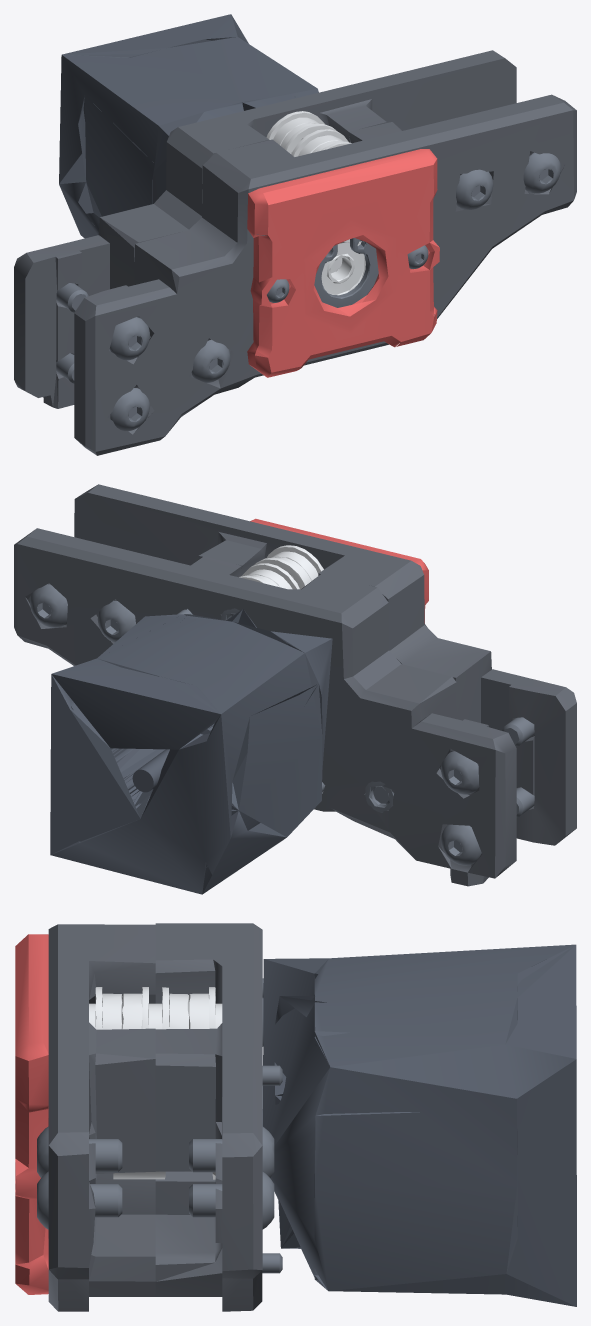
3 renders of one model, top to bottom at view 1: azimuth 30°, elevation 25°; view 2: azimuth 150°, elevation 25°; view 3: azimuth 270°, elevation 25°, orthographic. The views are drawn at different scales.
Visible parts, largest first — view 1: b_stepper_upper__1_, b_stepper_lower, [a]_cover_bearing_x2, nema17_motor_17hs19-2004s__1, circlip_x2, f695_zz__1___1_, m5x10_bhcs__1__9, m5x10_bhcs__1_, m5x10_bhcs__1__5, m5x30_bhcs__1__12, m5x10_bhcs__1__8, f695_zz__1__38 (+3 smaller); view 2: nema17_motor_17hs19-2004s__1, b_stepper_lower, b_stepper_upper__1_, m5x10_bhcs__1__10, m5x10_bhcs__1__11, m5x10_bhcs__1__6, m5x10_bhcs__1__7, [a]_cover_bearing_x2, f695_zz__1__41, nema17_motor_17hs19-2004s__1_27, f695_zz__1__37, f695_zz__1__42 (+2 smaller); view 3: nema17_motor_17hs19-2004s__1, b_stepper_lower, b_stepper_upper__1_, [a]_cover_bearing_x2, m5x10_bhcs__1__6, m5x10_bhcs__1_, m5x10_bhcs__1__7, m5x10_bhcs__1__5, f695_zz__1__41, f695_zz__1__42, f695_zz__1__38, f695_zz__1__37.
Boxes of the visible parts, left/top/right/bottom form: b_stepper_upper__1_: left=74, top=94, right=576, bottom=455; b_stepper_lower: left=14, top=50, right=516, bottom=408; [a]_cover_bearing_x2: left=247, top=149, right=439, bottom=377; nema17_motor_17hs19-2004s__1: left=59, top=14, right=318, bottom=238; circlip_x2: left=314, top=238, right=378, bottom=307; f695_zz__1___1_: left=321, top=239, right=365, bottom=295; m5x10_bhcs__1__9: left=109, top=317, right=149, bottom=360; m5x10_bhcs__1_: left=523, top=152, right=560, bottom=193; m5x10_bhcs__1__5: left=456, top=169, right=493, bottom=209; m5x30_bhcs__1__12: left=191, top=339, right=230, bottom=382; m5x10_bhcs__1__8: left=110, top=388, right=149, bottom=431; f695_zz__1__38: left=266, top=111, right=324, bottom=145; nema17_motor_17hs19-2004s__1: left=50, top=609, right=332, bottom=894; b_stepper_lower: left=14, top=528, right=516, bottom=886; b_stepper_upper__1_: left=74, top=484, right=576, bottom=845; m5x10_bhcs__1__10: left=441, top=824, right=481, bottom=865; m5x10_bhcs__1__11: left=441, top=751, right=479, bottom=794; m5x10_bhcs__1__6: left=30, top=584, right=67, bottom=627; m5x10_bhcs__1__7: left=97, top=600, right=135, bottom=642; [a]_cover_bearing_x2: left=250, top=518, right=428, bottom=623; f695_zz__1__41: left=266, top=545, right=323, bottom=580; nema17_motor_17hs19-2004s__1_27: left=132, top=749, right=169, bottom=792; f695_zz__1__37: left=241, top=563, right=299, bottom=589; f695_zz__1__42: left=253, top=557, right=311, bottom=589; nema17_motor_17hs19-2004s__1: left=263, top=944, right=576, bottom=1306; b_stepper_lower: left=155, top=923, right=262, bottom=1311; b_stepper_upper__1_: left=48, top=924, right=155, bottom=1311; [a]_cover_bearing_x2: left=15, top=934, right=48, bottom=1294; m5x10_bhcs__1__6: left=189, top=1172, right=274, bottom=1229; m5x10_bhcs__1_: left=37, top=1171, right=122, bottom=1229; m5x10_bhcs__1__7: left=189, top=1126, right=274, bottom=1177; m5x10_bhcs__1__5: left=37, top=1126, right=122, bottom=1177; f695_zz__1__41: left=95, top=987, right=122, bottom=1029; f695_zz__1__42: left=122, top=987, right=148, bottom=1029; f695_zz__1__38: left=189, top=987, right=215, bottom=1028; f695_zz__1__37: left=162, top=987, right=188, bottom=1029.
Size of the model in its own units: 0.116 by 0.054 by 0.0843.
